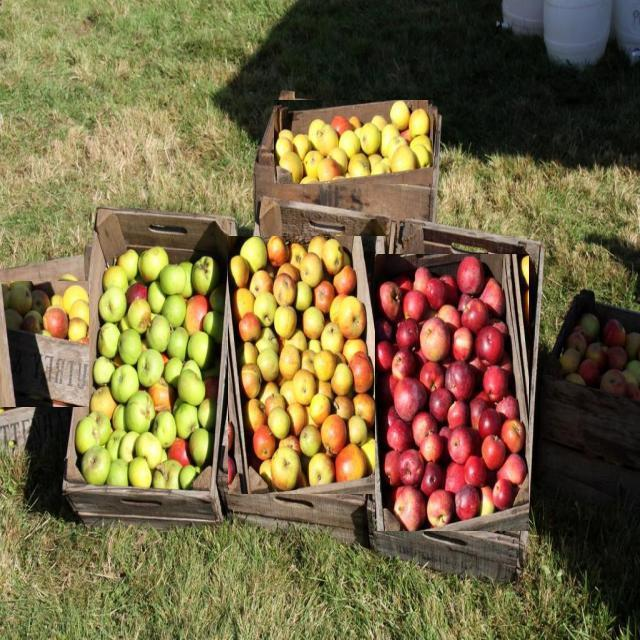Apple: (376, 254, 530, 531), (228, 236, 386, 494), (74, 249, 222, 491), (274, 100, 433, 184), (0, 281, 89, 407), (560, 309, 640, 406), (0, 271, 88, 340), (452, 488, 478, 526)
